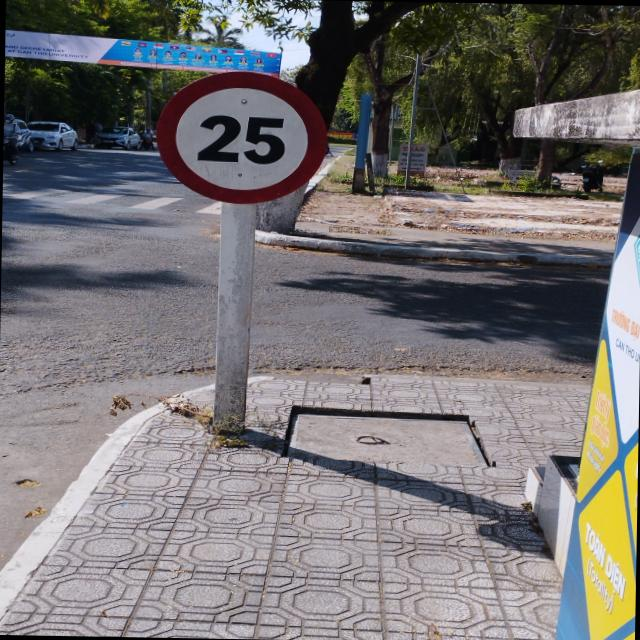Tre_Em: (154, 69, 328, 205)
